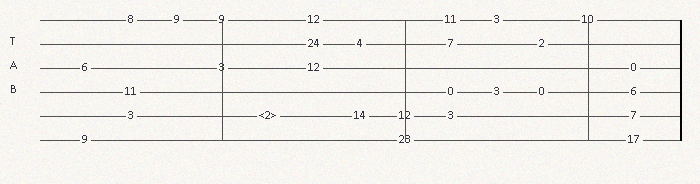0: (448, 86, 458, 98), (539, 86, 549, 98), (631, 62, 641, 74)
10: (582, 14, 598, 26)
11: (125, 86, 141, 98), (445, 14, 461, 26)
12: (308, 14, 324, 26), (308, 62, 324, 74), (399, 110, 415, 122)
14: (354, 110, 370, 122)
17: (628, 134, 644, 146)
2: (539, 38, 549, 50)
23: (399, 134, 415, 146)
24: (308, 38, 324, 50)
3: (128, 110, 138, 122), (219, 62, 229, 74), (448, 110, 458, 122), (494, 86, 504, 98), (494, 14, 504, 26)
4: (357, 38, 367, 50)
6: (82, 62, 92, 74), (631, 86, 641, 98)
7: (448, 38, 458, 50), (631, 110, 641, 122)
8: (128, 14, 138, 26)
9: (82, 134, 92, 146), (174, 14, 184, 26), (219, 14, 229, 26)
harmonic: (259, 110, 281, 122)
